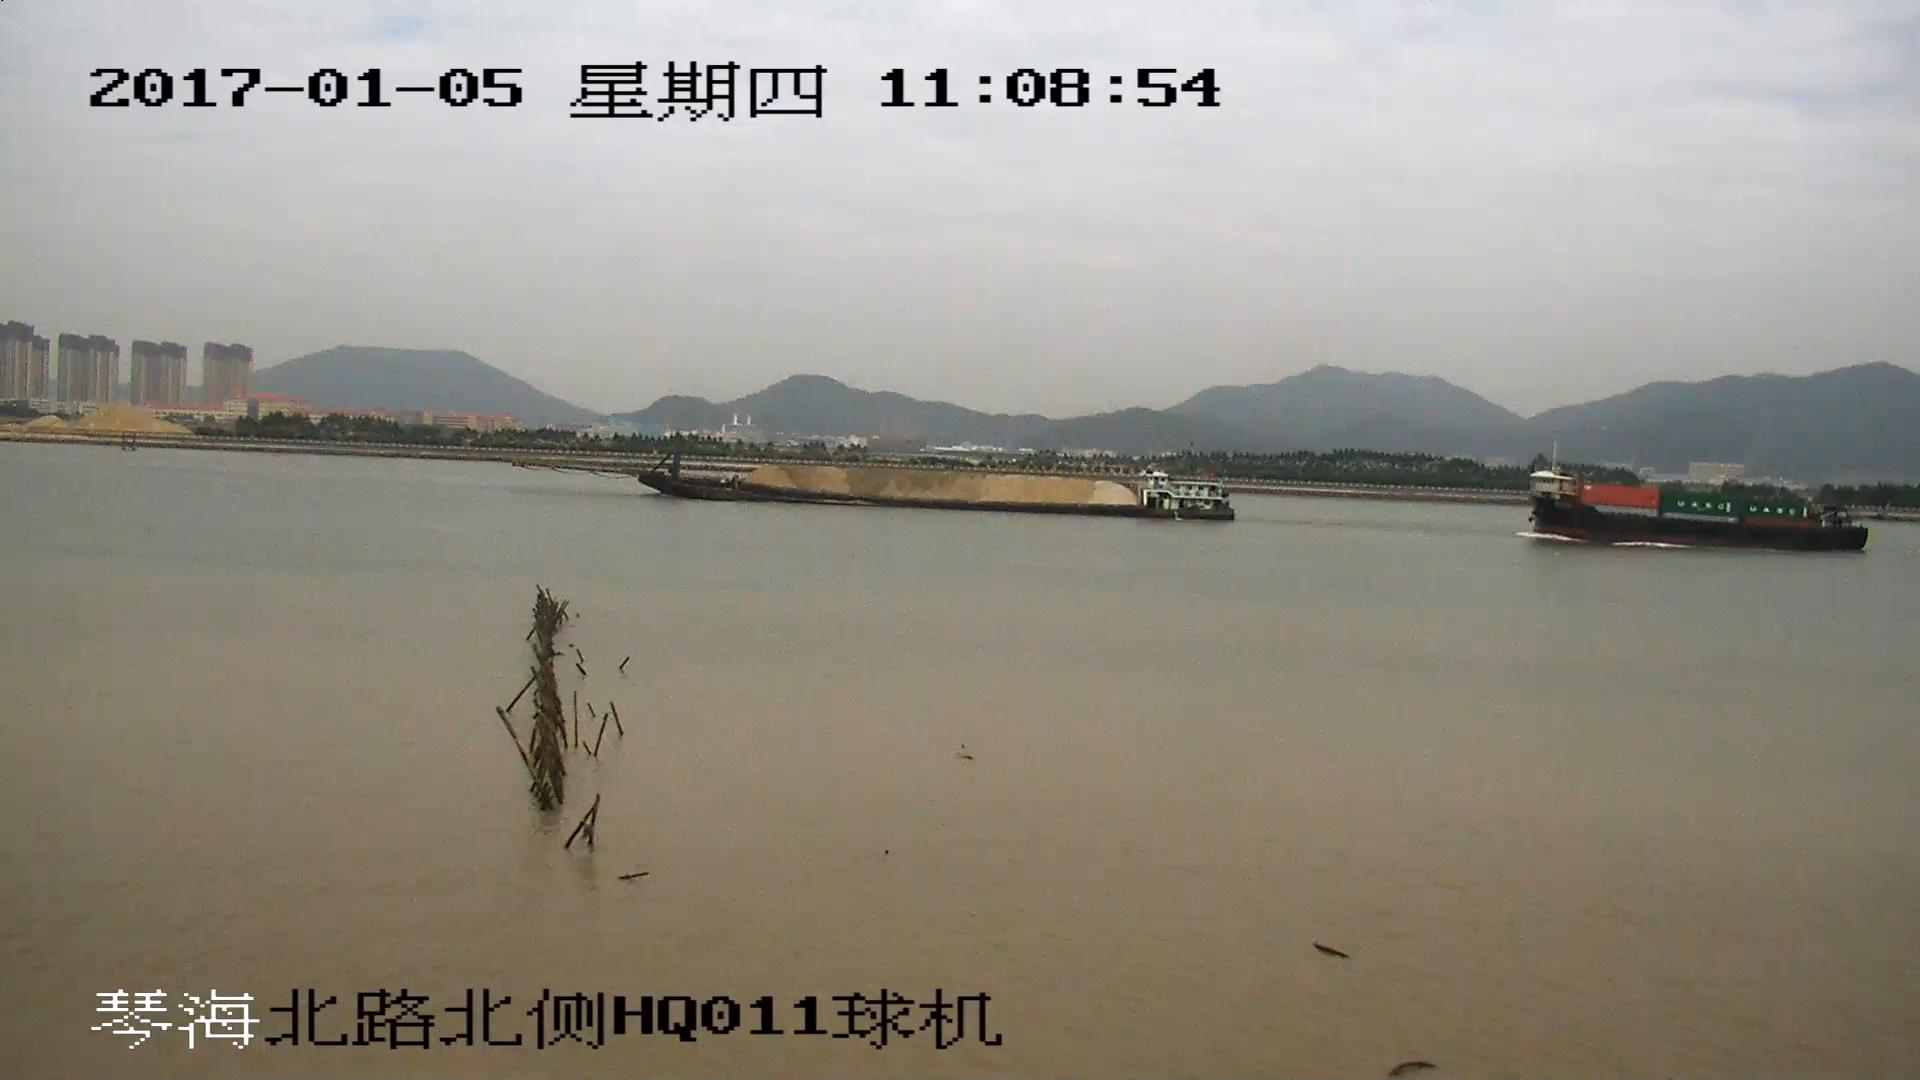container ship: (1528, 466, 1864, 552)
ore carrier: (527, 440, 1230, 519)
